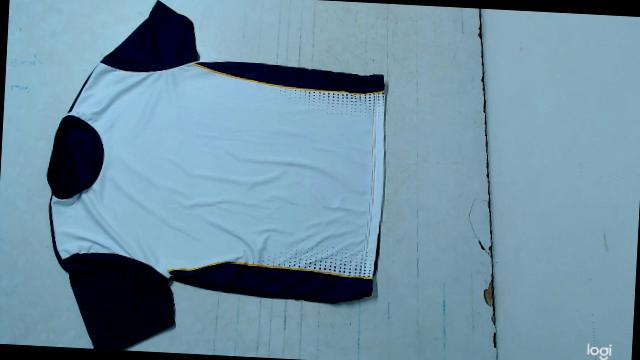new-garment: (46, 1, 385, 349)
